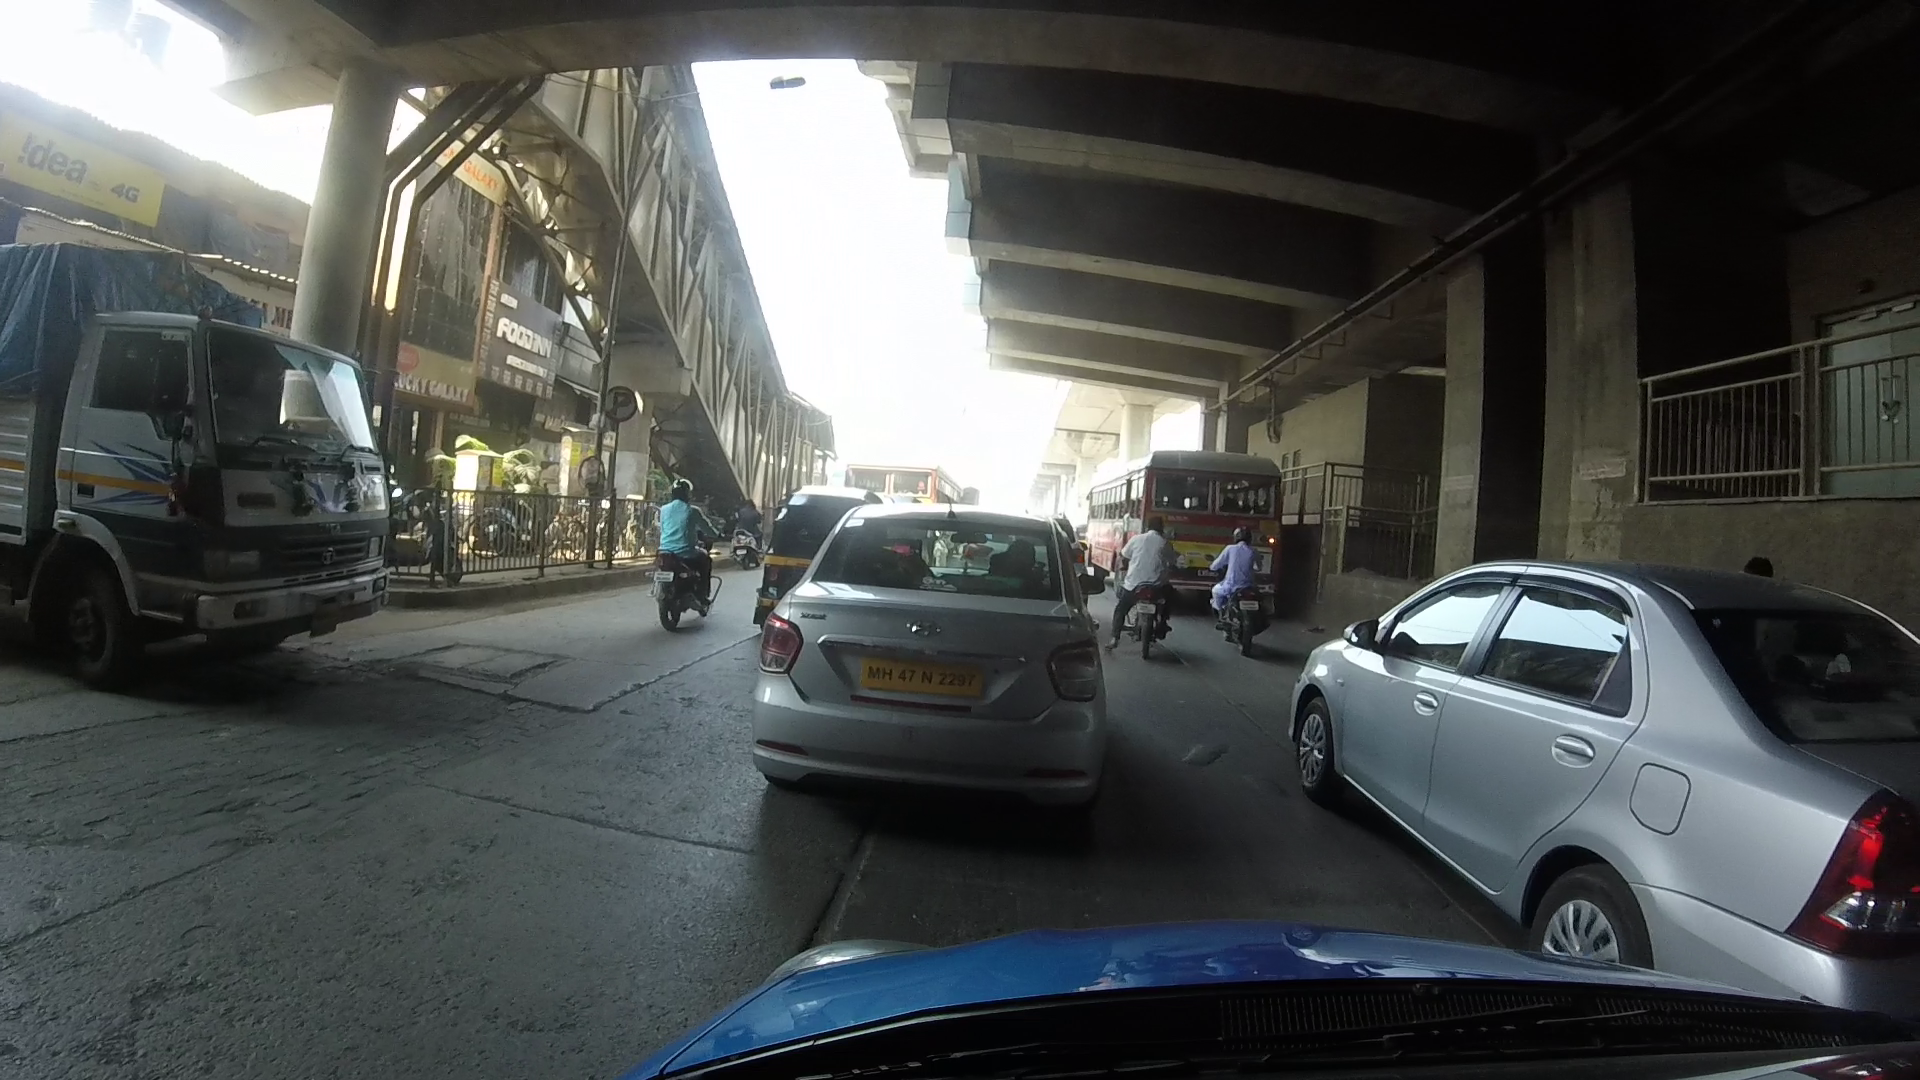bike/scooter: (1199, 530, 1280, 645), (649, 480, 708, 633), (1116, 510, 1175, 654)
car: (1273, 549, 1894, 996), (761, 504, 1112, 807)
truck: (11, 207, 381, 680)
